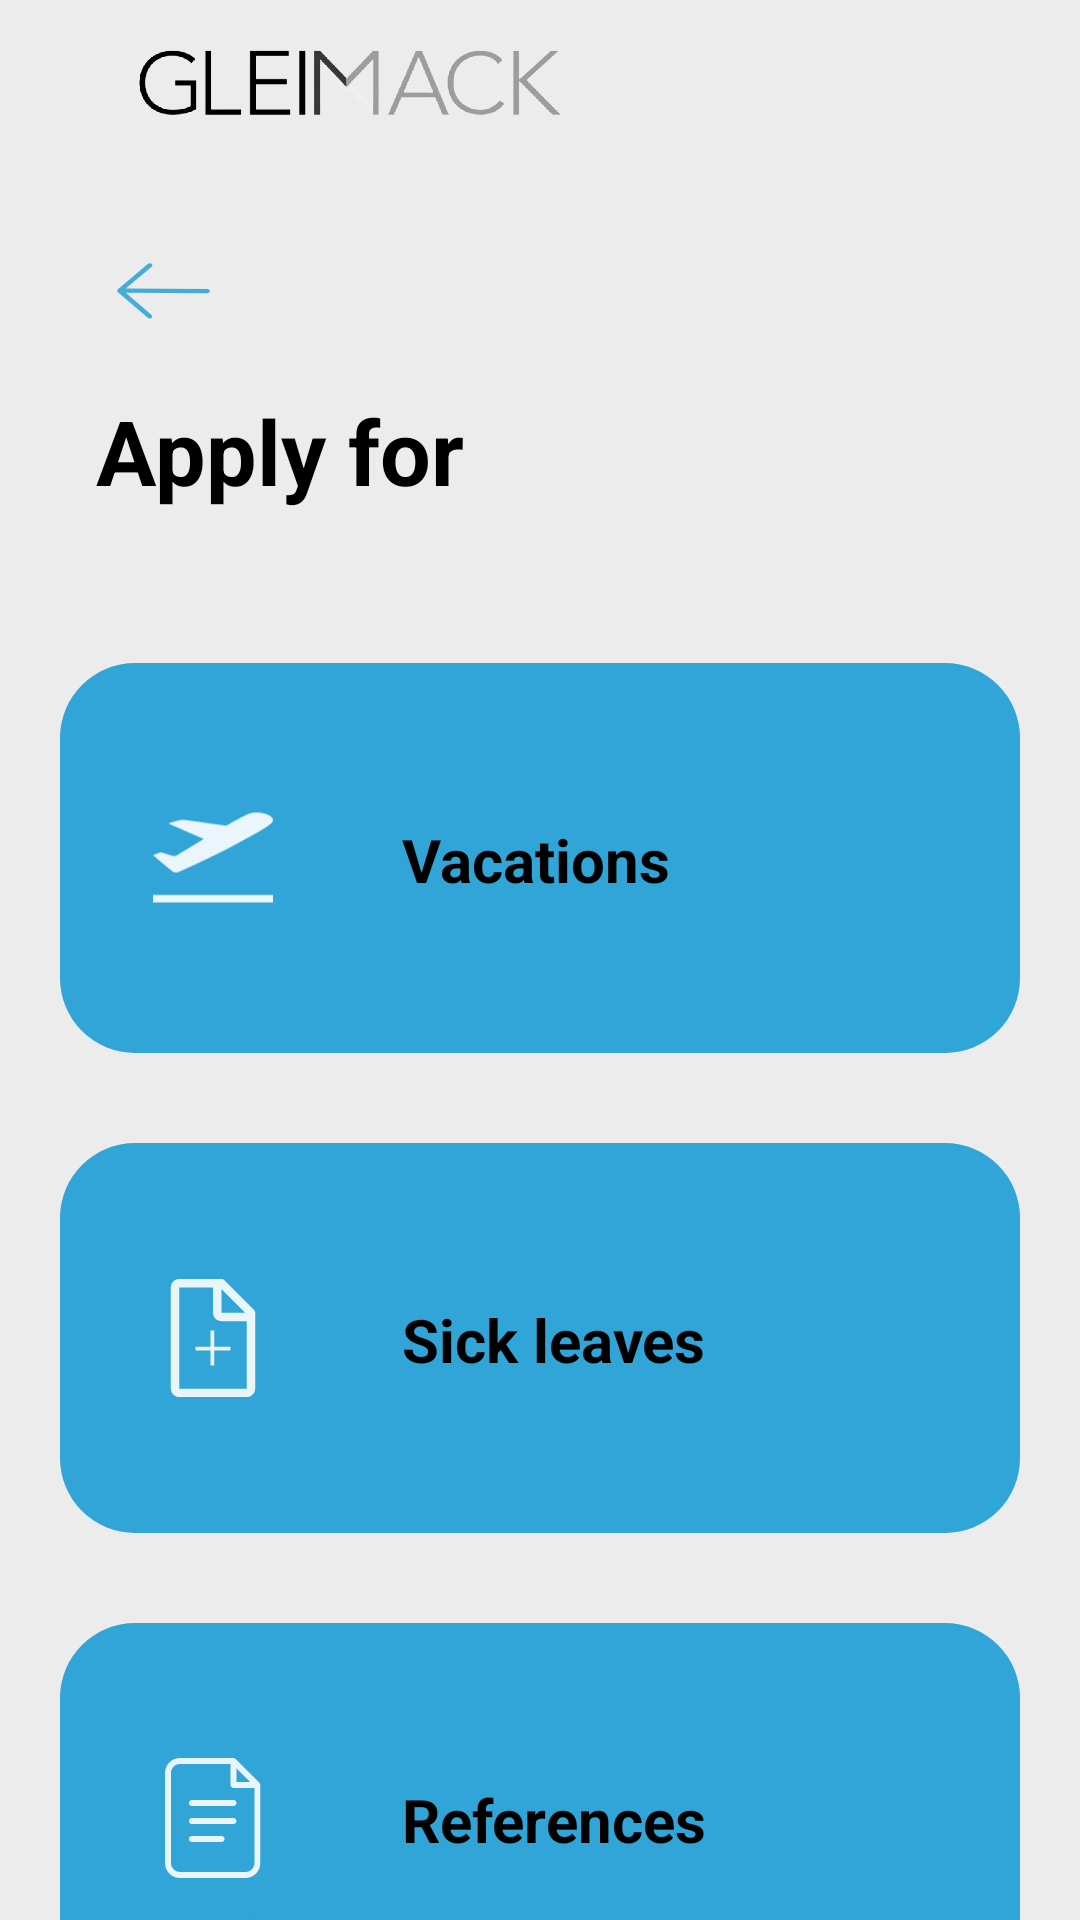

Icons on this 1080 × 1920 Android screen, each with the point to tap as (x=x, y=y):
arrow: (x=163, y=291)
page: (x=213, y=1818)
plane: (x=213, y=857)
plusdoc: (x=213, y=1338)
